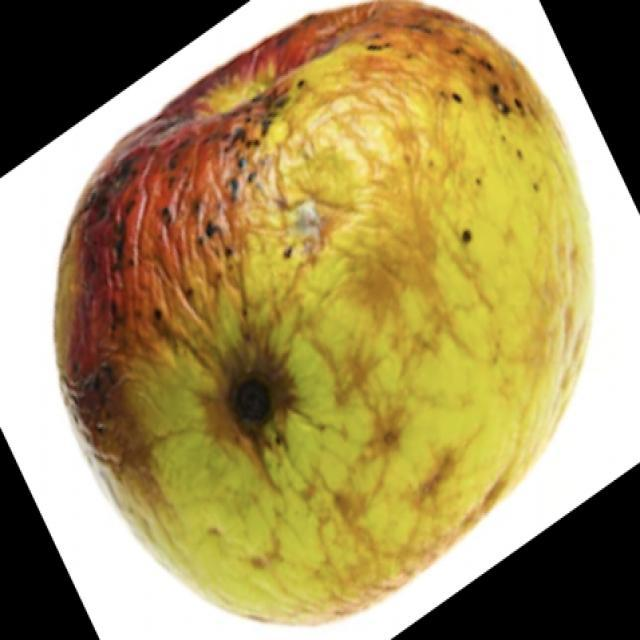Rotten: (60, 18, 583, 580)
